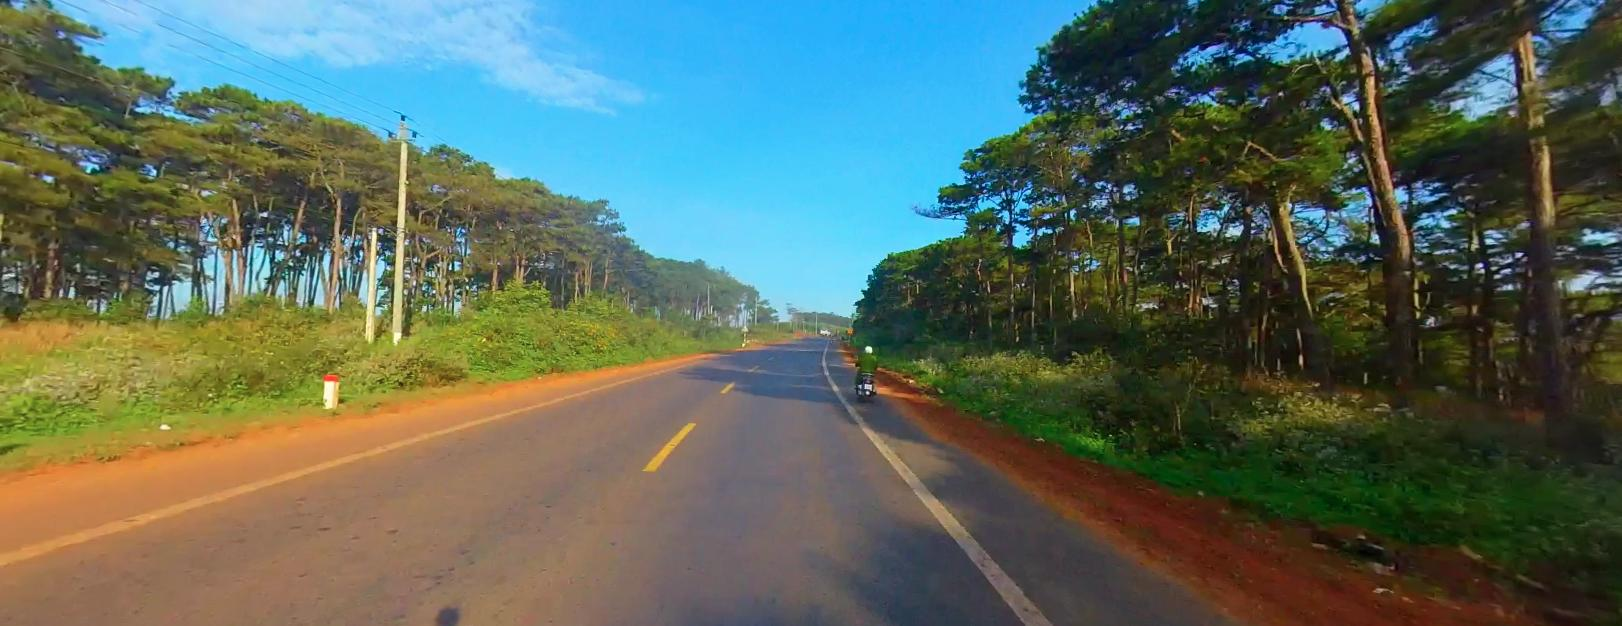Nguy hiem: (846, 326, 852, 332)
